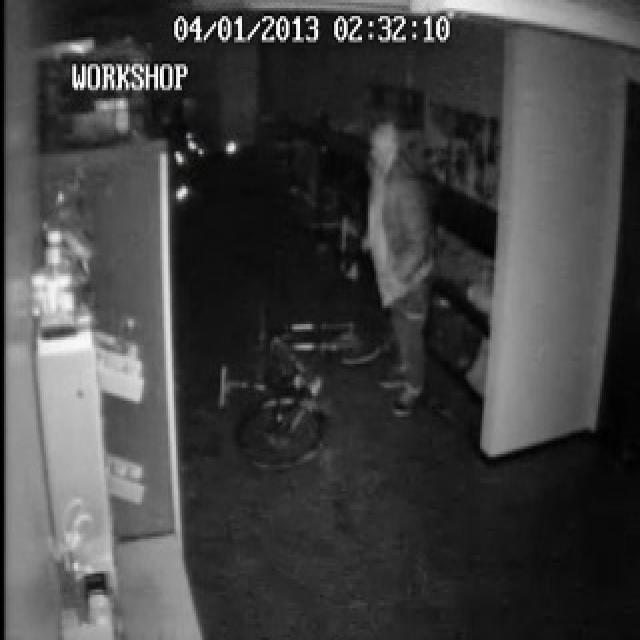thief: (360, 99, 434, 369)
